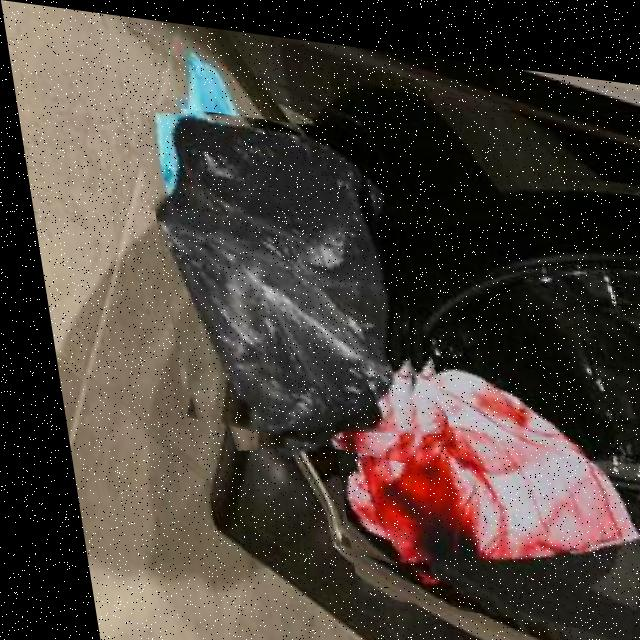litter: (135, 99, 436, 459), (308, 331, 640, 628)
